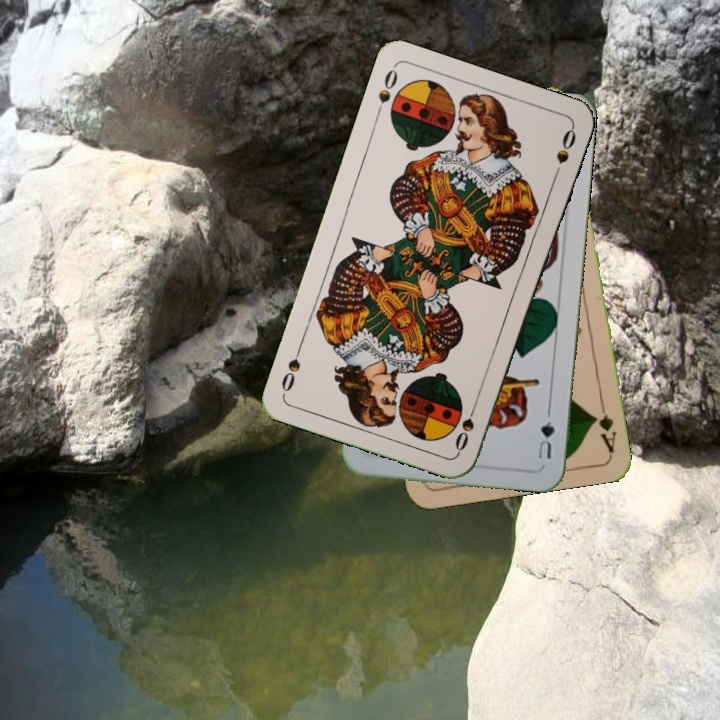GA: (589, 397, 619, 456)
GU: (534, 417, 557, 462)
SO: (451, 397, 480, 455), (371, 64, 400, 121)
